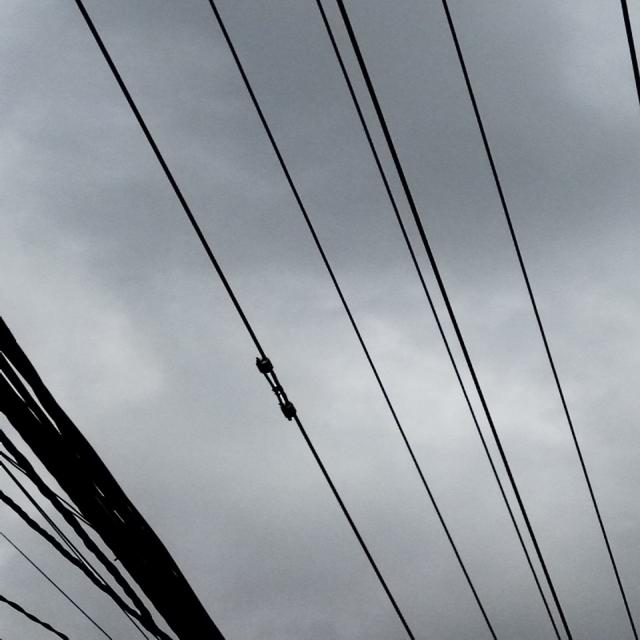wire: (65, 0, 420, 640), (204, 0, 497, 640), (310, 0, 565, 640), (334, 1, 580, 640), (435, 0, 640, 640), (0, 428, 173, 640), (0, 457, 111, 585), (1, 527, 121, 640), (619, 1, 640, 112)
